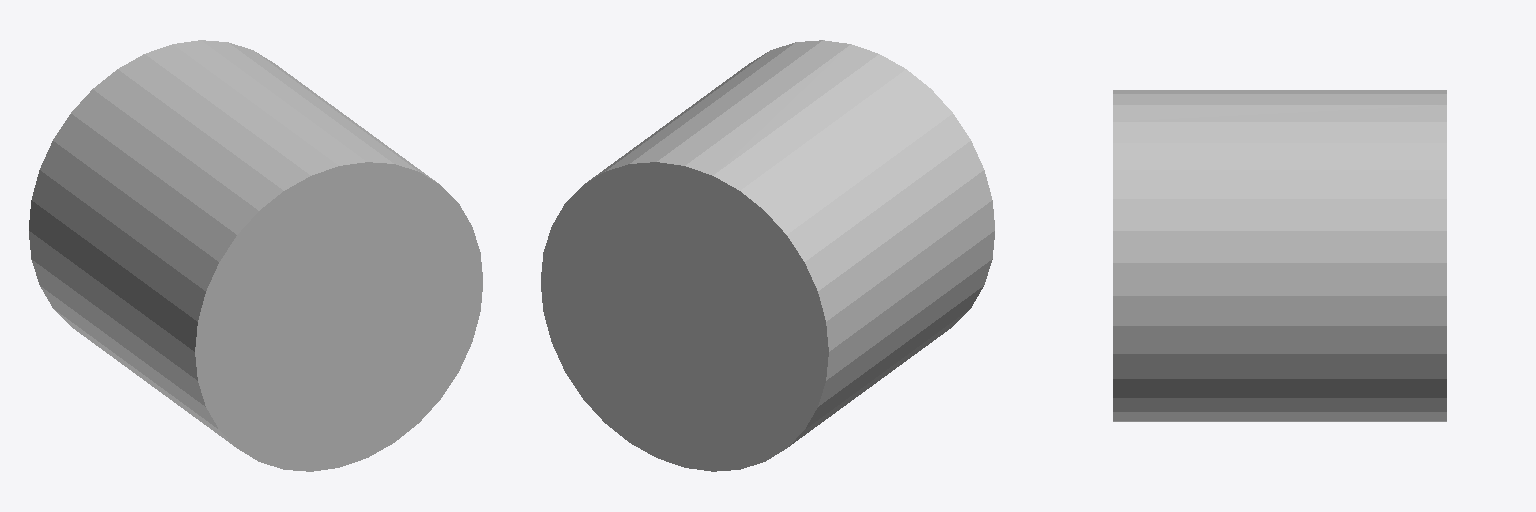
File: tool yaw link simple.OBJ
3 views of the same model, side by side, from view 1: azimuth 30°, elevation 25°; view 2: azimuth 150°, elevation 25°; view 3: azimuth 270°, elevation 25° (orthographic).
Visible parts, largest first — view 1: /ambf/env/psm2/tool_yaw_link_simple; view 2: /ambf/env/psm2/tool_yaw_link_simple; view 3: /ambf/env/psm2/tool_yaw_link_simple.
Part boxes in pixels (x1,y1,x2,y2): /ambf/env/psm2/tool_yaw_link_simple: (29,40,482,471); /ambf/env/psm2/tool_yaw_link_simple: (541,40,994,471); /ambf/env/psm2/tool_yaw_link_simple: (1113,90,1446,421).
Bounding box in the file's own units: 0.0038 × 0.0038 × 0.0038.